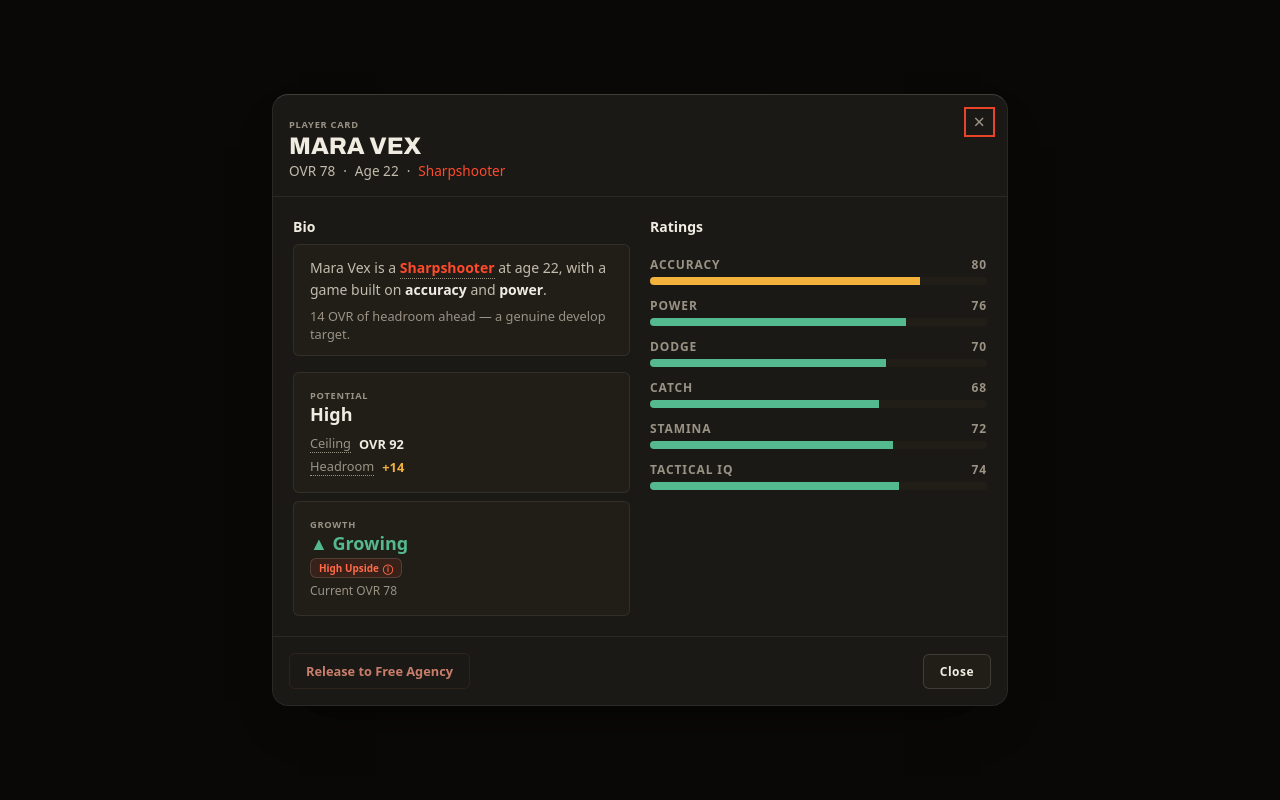
Test: PlayerDetailModal player-card truth (#54, #56) › #54: the confirm strip discloses free-agency + the broken-promise warning
The image size is (1280, 800).
Click the button with test id "release-player-btn": (380,671) [289, 653, 470, 689]
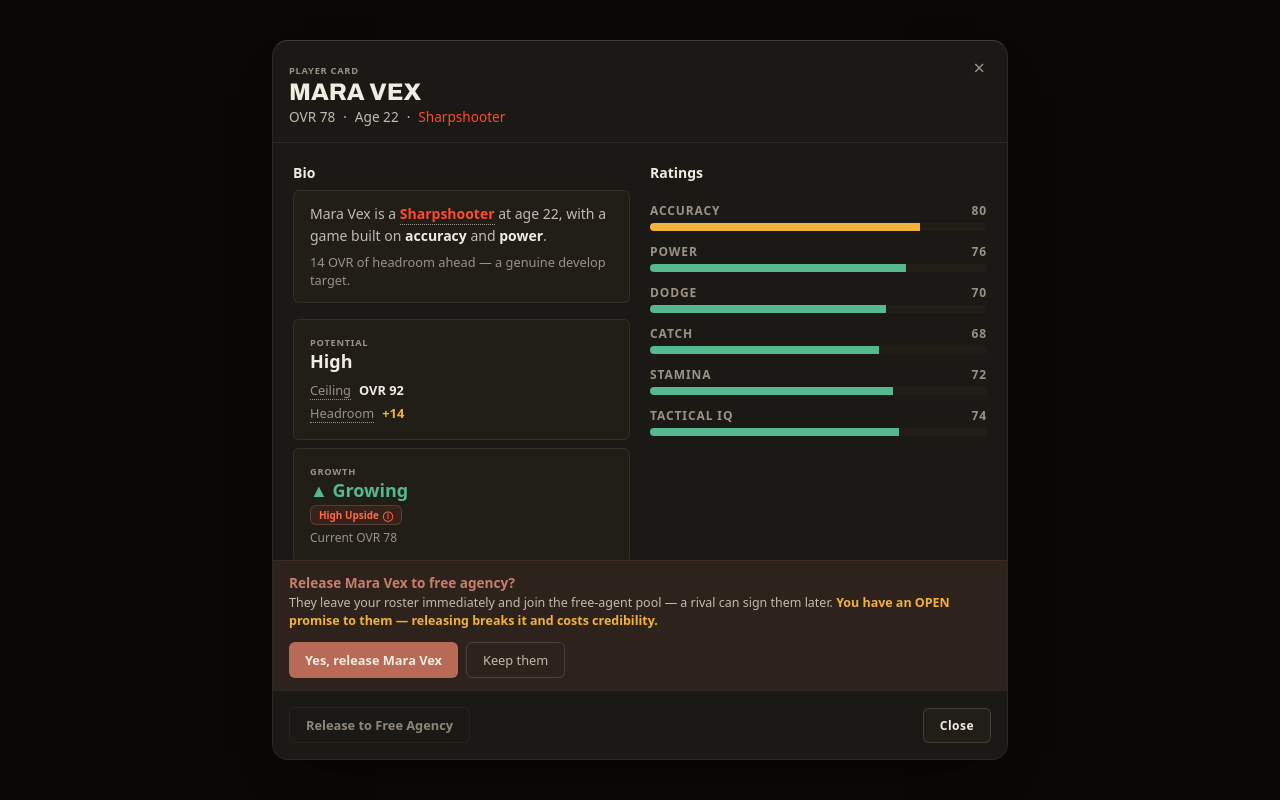
Now the text "free-agent pool" is shown, box [289, 594, 833, 611]
Now the text "OPEN promise" is shown, box [289, 594, 950, 629]
